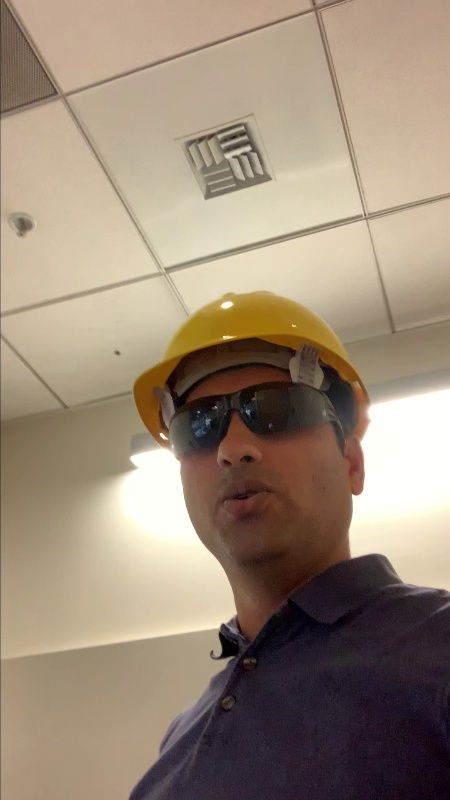glasses: (162, 382, 350, 455)
helmet: (124, 288, 372, 385)
